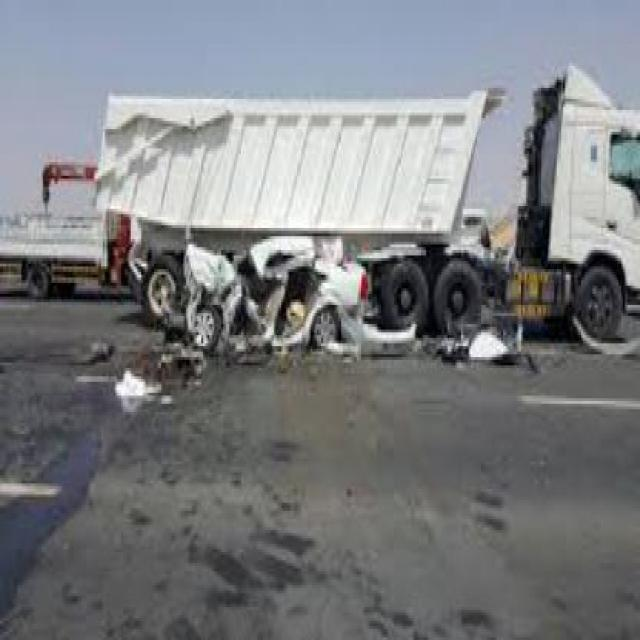accident: (84, 57, 640, 376)
